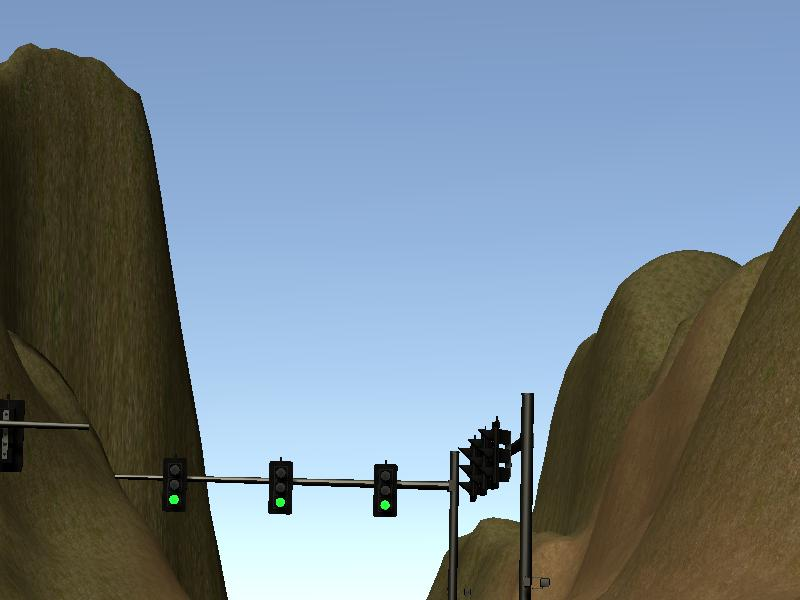Green: (161, 457, 187, 514), (269, 460, 291, 514), (375, 463, 396, 517)
